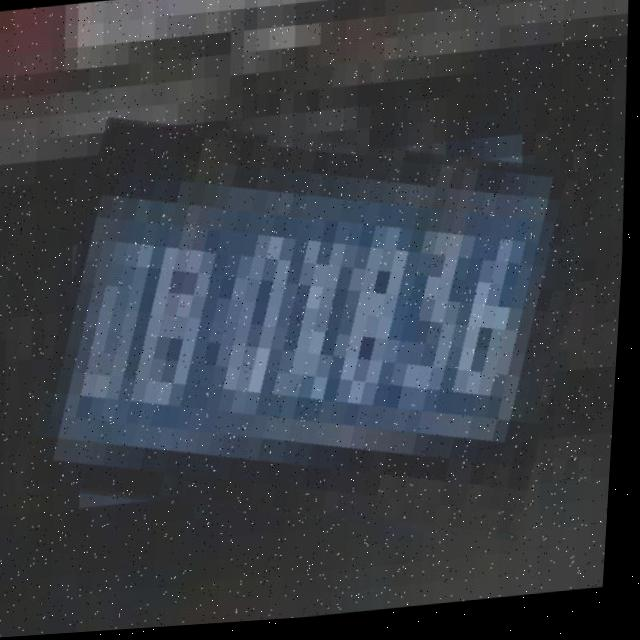LicensePlate: (27, 100, 604, 567)
